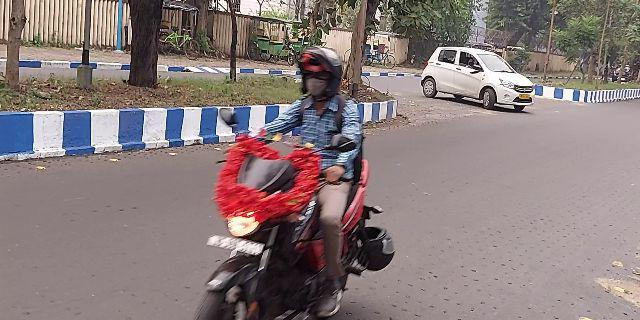Car: (419, 42, 539, 116)
Motorbike: (189, 36, 387, 320)
